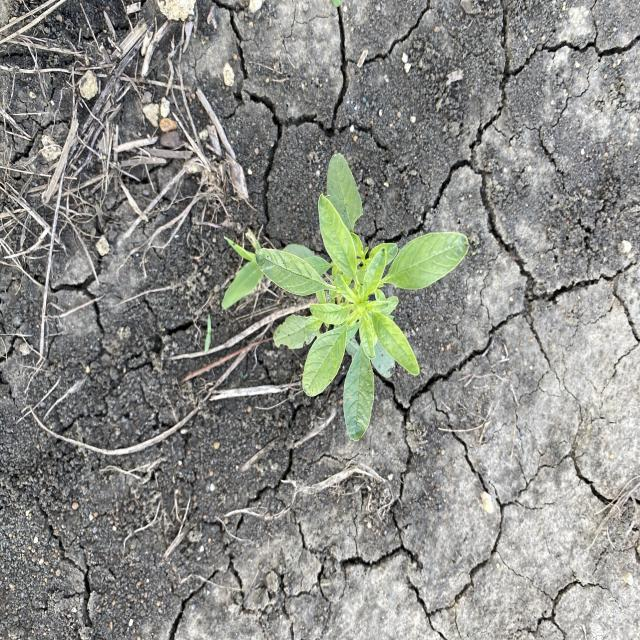Waterhemp: (254, 150, 470, 444)
